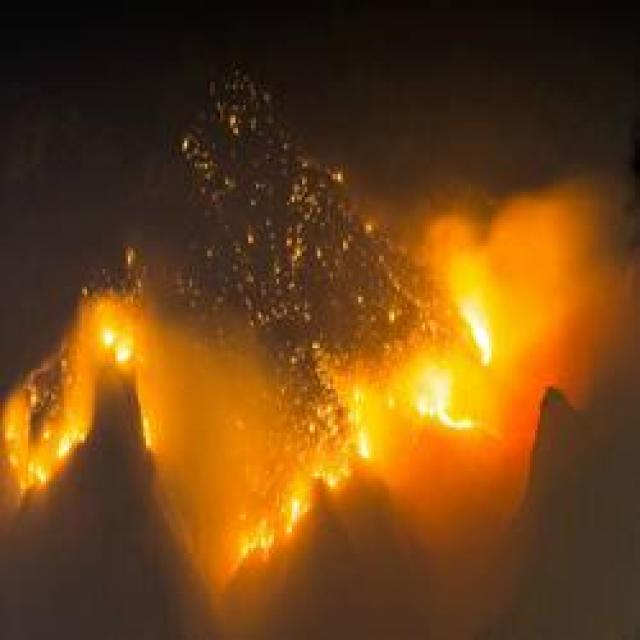fire: (4, 380, 83, 488), (302, 385, 378, 486), (452, 241, 494, 365), (99, 297, 143, 366), (410, 358, 454, 426)
smoke: (505, 178, 640, 370), (411, 425, 556, 560), (178, 342, 282, 467)
